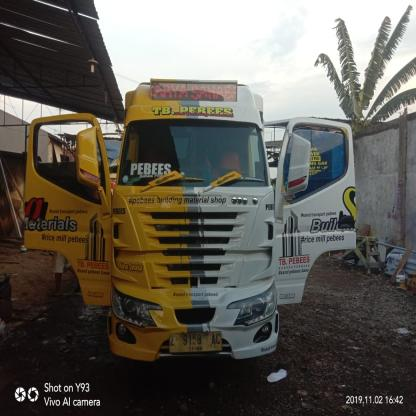truck: (25, 80, 356, 369)
